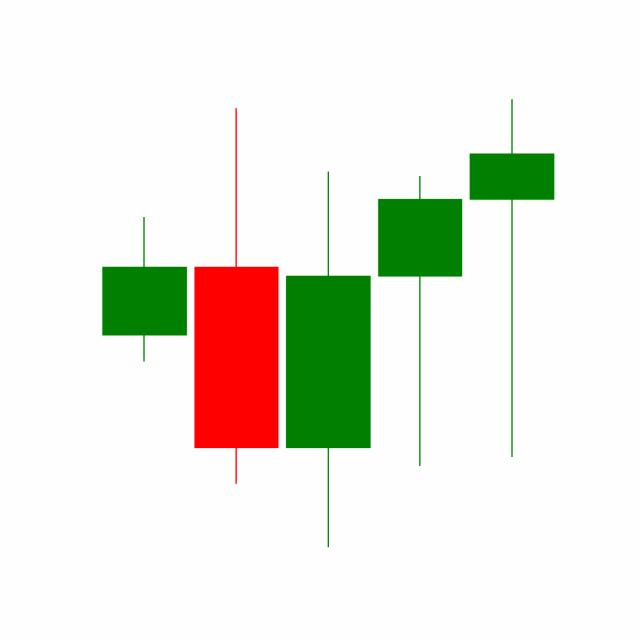Spinning Top: (464, 95, 558, 461)
